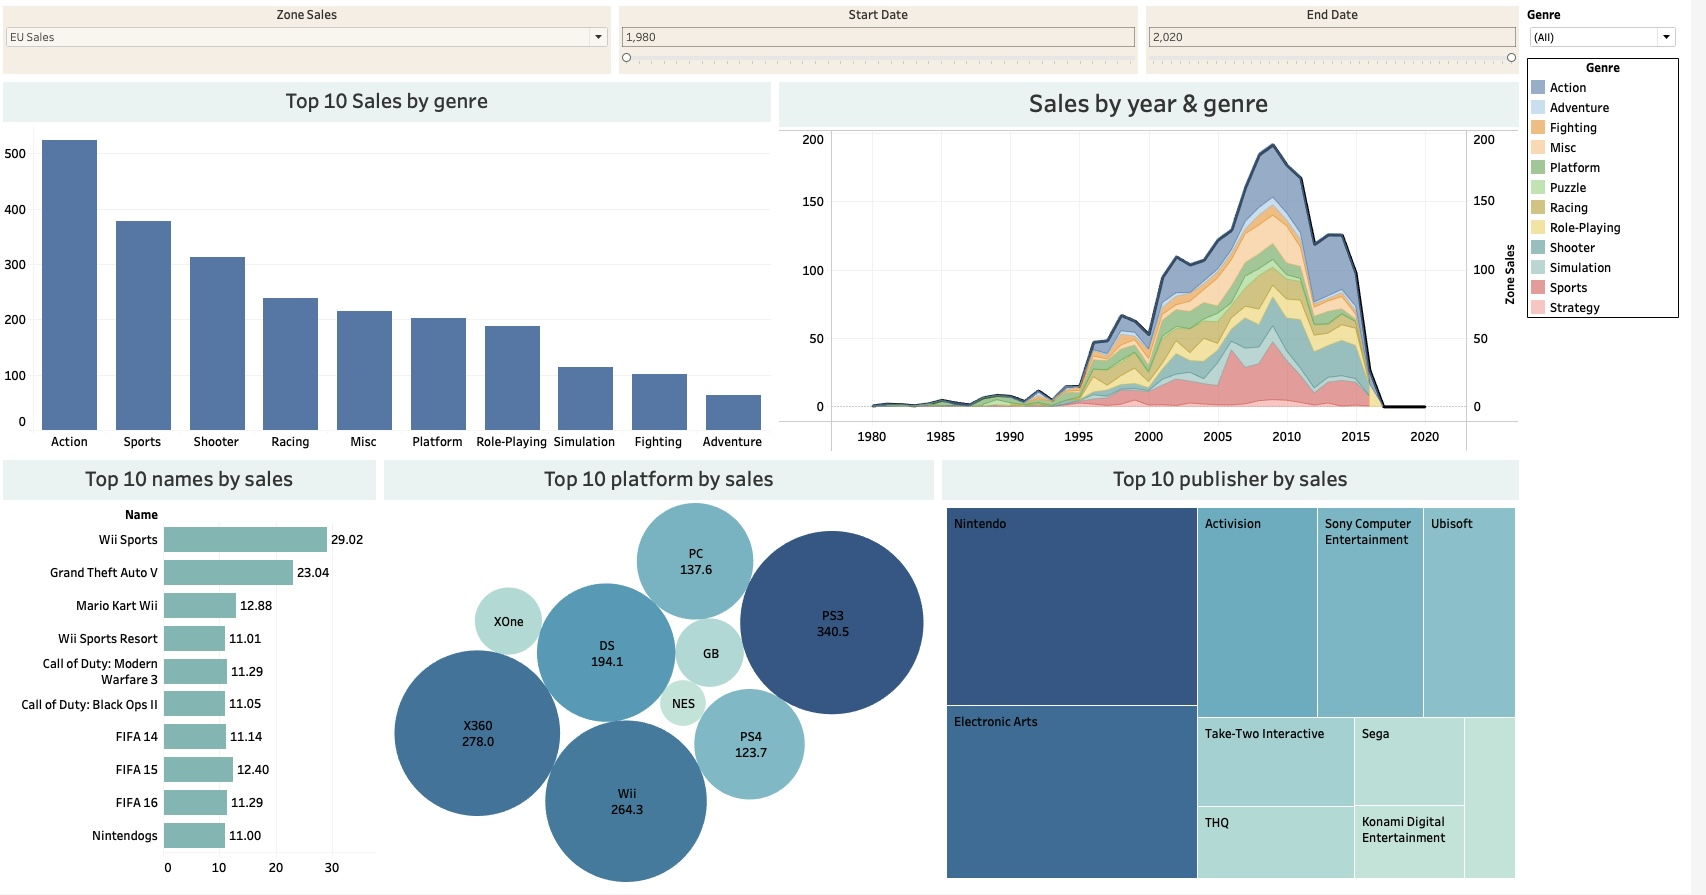

The dashboard page shown, as its layout file describes it:
{"tool":"tableau","page":{"name":"VGsales Dashboard","canvas":[1700,900],"ordinal":1},"visuals":[{"type":"parameter","param":"[Parameters].[Parameter 1]","box":[8,8,616,76]},{"type":"parameter","param":"[Parameters].[Parameter 2]","box":[624,8,527,76]},{"type":"parameter","param":"[Parameters].[Parameter 3]","box":[1151,8,381,76]},{"type":"filter","title":"Sales by year & genre","param":"[federated.1sk2h6j12oi0r2107193y0guhyhb].[none:Genre:nk]","box":[1532,8,160,52]},{"type":"legend","title":"Sales by year & genre","param":"[federated.1sk2h6j12oi0r2107193y0guhyhb].[none:Genre:nk]","box":[1532,60,160,268]},{"type":"worksheet","title":"Top 10 Sales by genre","mark":"Automatic","rows":["Calculation_2109866065655558145"],"cols":["Genre"],"box":[8,84,776,378]},{"type":"worksheet","title":"Sales by year & genre","mark":"Automatic","rows":["Calculation_2109866065655558145","Calculation_2109866065655558145"],"cols":["Year"],"box":[784,84,748,378]},{"type":"worksheet","title":"Top 10 names by sales","mark":"Automatic","rows":["Name"],"cols":["Calculation_2109866065655558145"],"box":[8,462,381,430]},{"type":"worksheet","title":"Top 10 platform by sales","mark":"Circle","box":[389,462,558,430]},{"type":"worksheet","title":"Top 10 publisher by sales","mark":"Automatic","box":[947,462,585,430]}]}

Visuals, with their boxes in screenshot pixels (x1, y1, x2, y2), scaled from the page's 1700x900 canvas onto the 1706x895 screenshot:
parameter: (x1=8, y1=8, x2=626, y2=84)
parameter: (x1=626, y1=8, x2=1155, y2=84)
parameter: (x1=1155, y1=8, x2=1537, y2=84)
"Sales by year & genre" filter: (x1=1537, y1=8, x2=1698, y2=60)
"Sales by year & genre" legend: (x1=1537, y1=60, x2=1698, y2=326)
"Top 10 Sales by genre" worksheet: (x1=8, y1=84, x2=787, y2=459)
"Sales by year & genre" worksheet: (x1=787, y1=84, x2=1537, y2=459)
"Top 10 names by sales" worksheet: (x1=8, y1=459, x2=390, y2=887)
"Top 10 platform by sales" worksheet (Circle marks): (x1=390, y1=459, x2=950, y2=887)
"Top 10 publisher by sales" worksheet: (x1=950, y1=459, x2=1537, y2=887)
